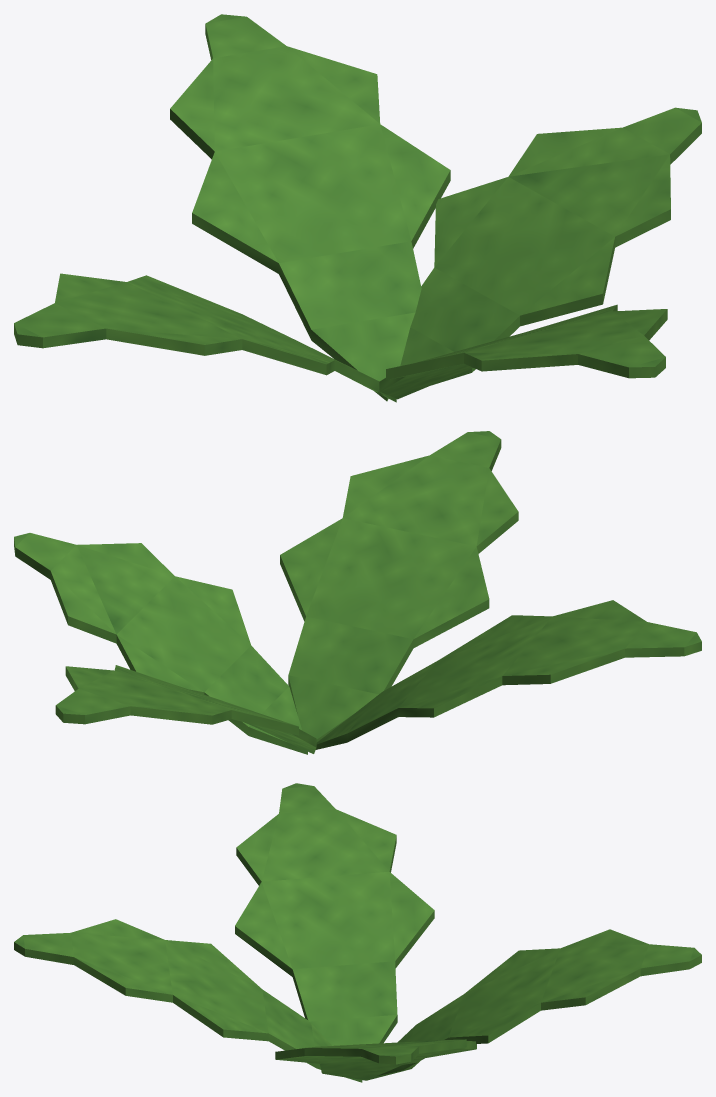
The model's file is SM_Fern02_LOD1.fbx.
3 renders of one model, top to bottom at view 1: azimuth 30°, elevation 25°; view 2: azimuth 150°, elevation 25°; view 3: azimuth 270°, elevation 25°, orthographic. The views are drawn at different scales.
Parts seen in each view (by area): view 1: SM_Fern02_LOD1; view 2: SM_Fern02_LOD1; view 3: SM_Fern02_LOD1.
Part boxes in pixels (x1=…): SM_Fern02_LOD1: x1=14, y1=14, x2=701, y2=402; SM_Fern02_LOD1: x1=14, y1=431, x2=701, y2=754; SM_Fern02_LOD1: x1=14, y1=783, x2=701, y2=1082.
Size of the model in its own units: 2.88 by 0.7432 by 3.13.
Materials: 1 (1 with a texture image).
